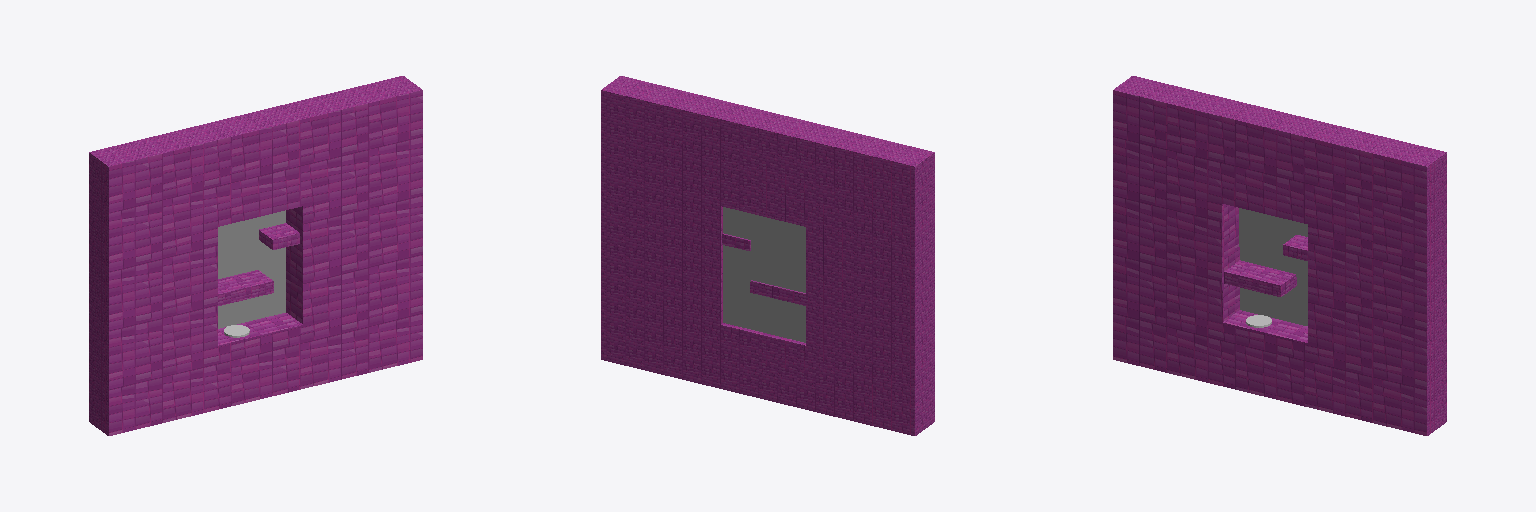
3 renders of one model, left to right at view 1: azimuth 30°, elevation 25°; view 2: azimuth 150°, elevation 25°; view 3: azimuth 330°, elevation 25°, orthographic.
Parts seen in each view (by area): view 1: Cube, Plane, Cube.002_Cube.003, Cube.001; view 2: Cube, Plane, Cube.002_Cube.003; view 3: Cube, Plane, Cube.002_Cube.003.
Part boxes in pixels (x1,y1,x2,y2): Cube: (89, 76, 422, 435); Plane: (218, 210, 285, 328); Cube.002_Cube.003: (218, 270, 273, 305); Cube.001: (259, 223, 299, 249); Cube: (601, 76, 934, 435); Plane: (723, 207, 805, 342); Cube.002_Cube.003: (750, 280, 805, 305); Cube: (1113, 76, 1446, 435); Plane: (1239, 208, 1307, 325); Cube.002_Cube.003: (1224, 260, 1296, 296).
Bounding box in the file's own units: 33.12 × 27.16 × 3.61.
3 materials, 1 textured.